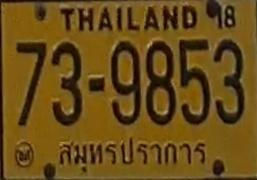3: (212, 38, 244, 124), (50, 42, 82, 124)
5: (178, 38, 210, 124)
7: (15, 41, 46, 124)
8: (145, 40, 175, 124)
9: (110, 40, 140, 124)
SPK: (57, 133, 212, 171)
